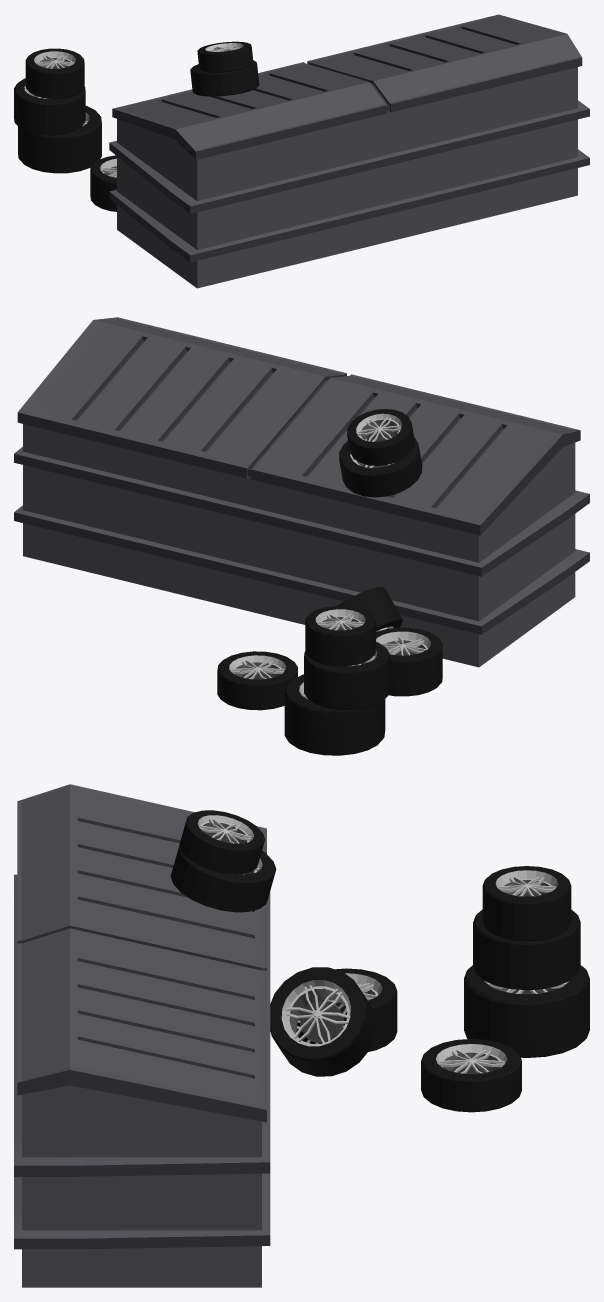
The model's file is dust_bin_3_T3.fbx.
3 views of the same model, one above another, from view 1: azimuth 30°, elevation 25°; view 2: azimuth 150°, elevation 25°; view 3: azimuth 270°, elevation 25° (orthographic). The views are drawn at different scales.
Parts seen in each view (by area): view 1: pCube112, devida17, devida13, devida21, devida20; view 2: pCube112, devida17, devida20, devida22, devida21, devida13; view 3: pCube112, devida17, devida20, devida22, devida21, devida13.
Part boxes in pixels (box(x1,y1,x2,y2)): pCube112: box(109, 14, 589, 288); devida17: box(14, 48, 101, 173); devida13: box(190, 60, 259, 96); devida21: box(197, 41, 253, 72); devida20: box(90, 155, 116, 211); pCube112: box(14, 317, 589, 667); devida17: box(284, 606, 389, 755); devida20: box(337, 586, 442, 696); devida22: box(217, 651, 297, 710); devida21: box(347, 409, 414, 465); devida13: box(339, 434, 422, 497); pCube112: box(14, 784, 270, 1287); devida17: box(464, 866, 589, 1057); devida20: box(270, 967, 397, 1076); devida22: box(421, 1039, 521, 1112); devida21: box(179, 810, 265, 874); devida13: box(170, 846, 276, 912).
Bounding box in the file's own units: 1334 × 553 × 1115.
